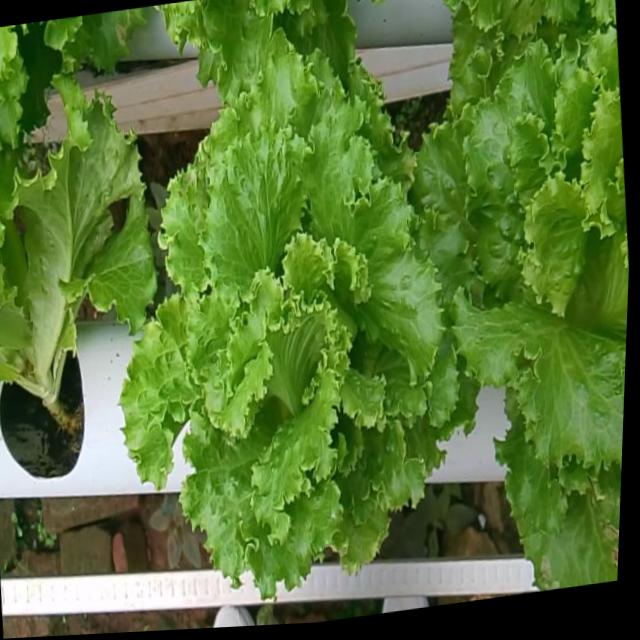Mature: (132, 64, 469, 607), (424, 52, 629, 487)
